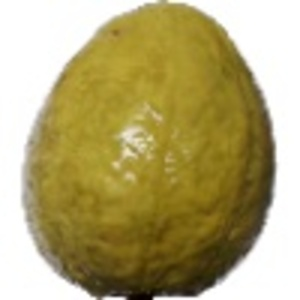goiaba: (11, 2, 285, 298)
